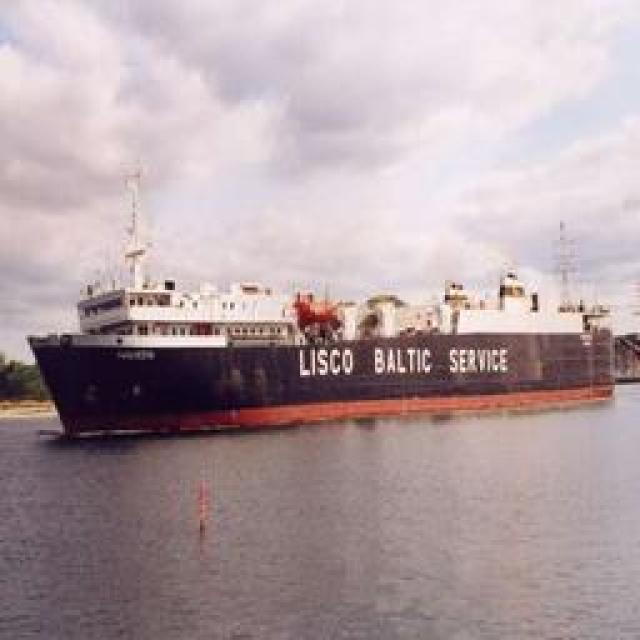ship2: (27, 178, 617, 444)
